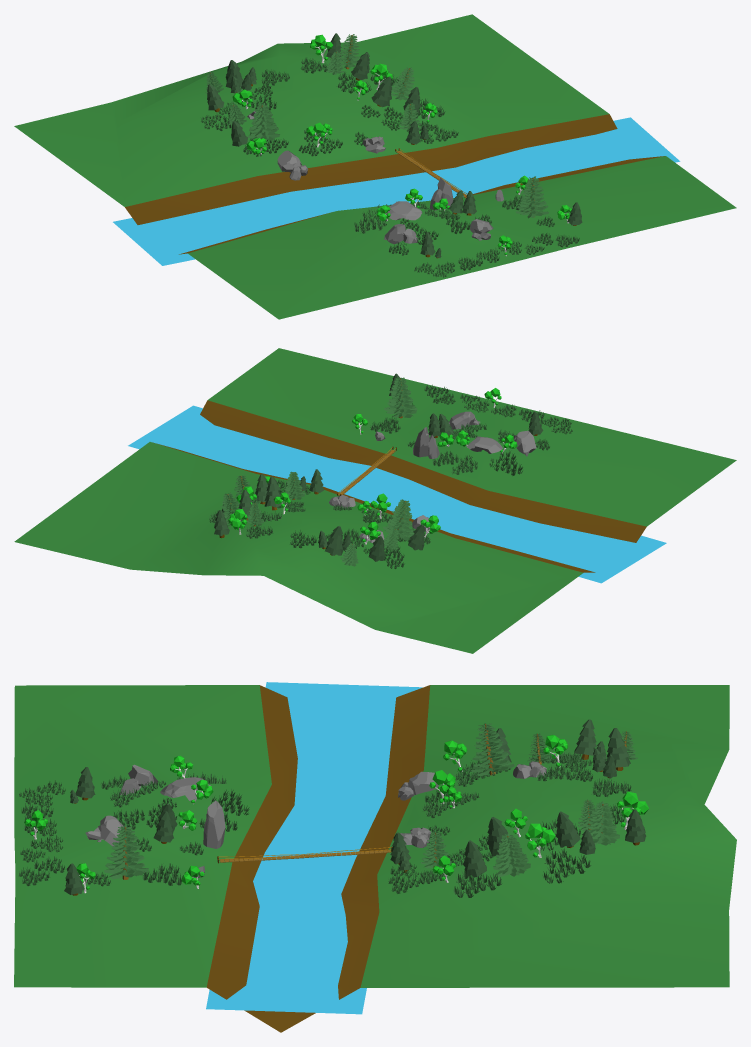
The model's file is Valley.fbx.
3 views of the same model, one above another, from view 1: azimuth 30°, elevation 25°; view 2: azimuth 150°, elevation 25°; view 3: azimuth 270°, elevation 25° (orthographic). The views are drawn at different scales.
Parts seen in each view (by area): view 1: Valley, River, TreeBigSpruce, TreeBigSpruce.002, TreeBigSpruce.006, Rock.013, TreeBigSpruce.005; view 2: Valley, River, TreeBigSpruce, TreeBigSpruce.002; view 3: Valley, River, TreeBigSpruce, TreeBigSpruce.002, TreeBigSpruce.006, TreeBigSpruce.005, Cylinder.013, Rock.012, Cone.045, Cone.046, Rock.013, TreeSpruce.010 (+5 smaller).
Part boxes in pixels (left/top/right/bottom): Valley: left=14, top=14, right=736, bottom=319; River: left=113, top=117, right=680, bottom=265; TreeBigSpruce: left=515, top=176, right=548, bottom=218; TreeBigSpruce.002: left=247, top=102, right=279, bottom=140; TreeBigSpruce.006: left=391, top=67, right=414, bottom=100; Rock.013: left=385, top=201, right=422, bottom=220; TreeBigSpruce.005: left=339, top=34, right=360, bottom=69; Valley: left=14, top=348, right=736, bottom=653; River: left=128, top=405, right=666, bottom=583; TreeBigSpruce: left=384, top=377, right=417, bottom=418; TreeBigSpruce.002: left=383, top=499, right=413, bottom=540; Valley: left=14, top=685, right=736, bottom=1032; River: left=206, top=682, right=422, bottom=1014; TreeBigSpruce: left=104, top=825, right=148, bottom=879; TreeBigSpruce.002: left=470, top=723, right=514, bottom=776; TreeBigSpruce.006: left=493, top=833, right=530, bottom=877; TreeBigSpruce.005: left=582, top=801, right=619, bottom=845; Cylinder.013: left=217, top=846, right=392, bottom=863; Rock.012: left=203, top=800, right=225, bottom=848; Cone.045: left=542, top=848, right=591, bottom=883; Cone.046: left=453, top=868, right=502, bottom=897; Rock.013: left=160, top=777, right=210, bottom=800; TreeSpruce.010: left=607, top=728, right=630, bottom=770.
Bounding box in the file's own units: 4394 × 732 × 4041.
